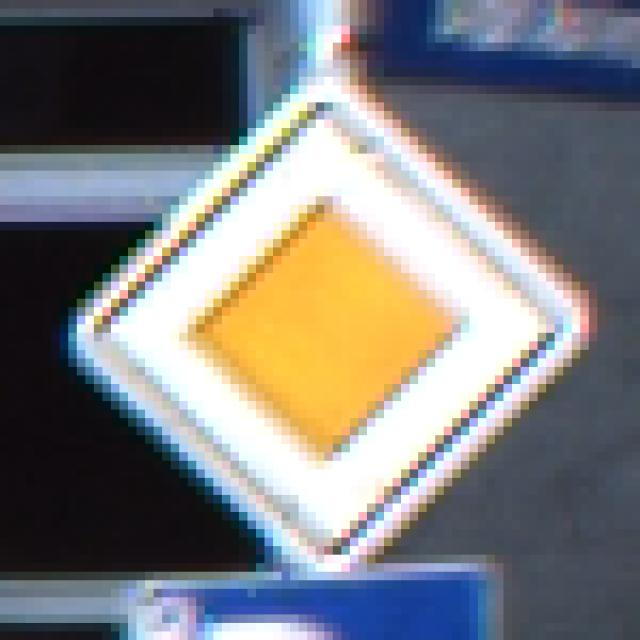Main Road: (61, 61, 590, 590)
